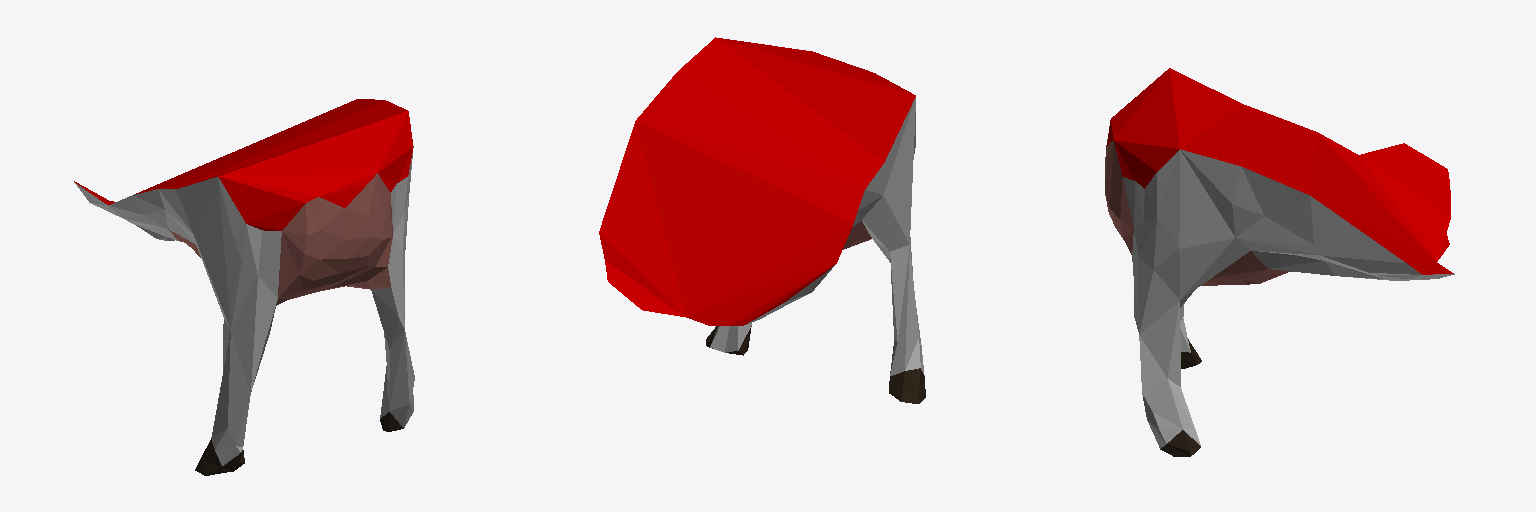
File: cow-part2.obj
The picture shows the model from 3 angles: view 1: azimuth 30°, elevation 25°; view 2: azimuth 150°, elevation 25°; view 3: azimuth 270°, elevation 25°; orthographic projection.
Visible parts, largest first — view 1: cow.004_cow.002__CowHide1, cow.004_cow.002_flesh, cow.004_cow.002__CowUdder1, cow.004_cow.002__CowHooves1.001; view 2: cow.004_cow.002_flesh, cow.004_cow.002__CowHide1, cow.004_cow.002__CowHooves1.001; view 3: cow.004_cow.002__CowHide1, cow.004_cow.002_flesh, cow.004_cow.002__CowUdder1, cow.004_cow.002__CowHooves1.001.
Boxes of the visible parts, x1=… form: cow.004_cow.002__CowHide1: x1=74, y1=147, x2=414, y2=465; cow.004_cow.002_flesh: x1=74, y1=99, x2=413, y2=230; cow.004_cow.002__CowUdder1: x1=168, y1=173, x2=392, y2=305; cow.004_cow.002__CowHooves1.001: x1=195, y1=412, x2=403, y2=475; cow.004_cow.002_flesh: x1=599, y1=37, x2=915, y2=325; cow.004_cow.002__CowHide1: x1=710, y1=97, x2=924, y2=375; cow.004_cow.002__CowHooves1.001: x1=706, y1=326, x2=925, y2=403; cow.004_cow.002__CowHide1: x1=1123, y1=149, x2=1454, y2=448; cow.004_cow.002_flesh: x1=1107, y1=68, x2=1453, y2=274; cow.004_cow.002__CowUdder1: x1=1105, y1=126, x2=1290, y2=285; cow.004_cow.002__CowHooves1.001: x1=1160, y1=339, x2=1201, y2=456.
Bounding box in the file's own units: 0.502 × 0.6411 × 0.649.